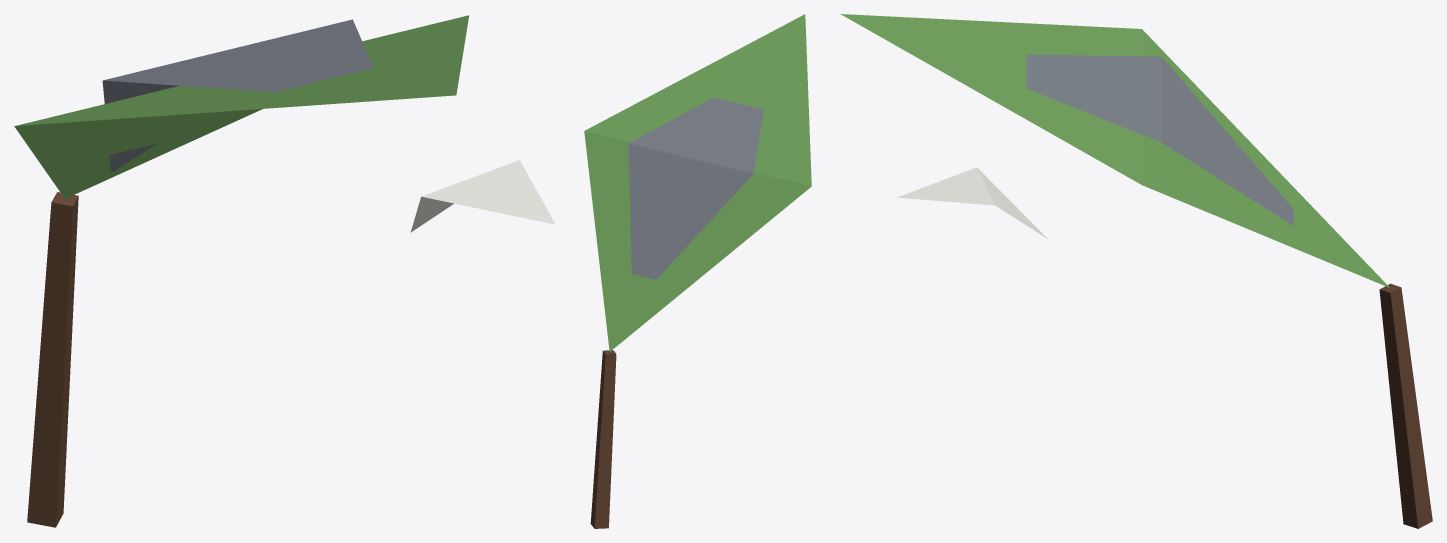
The model's file is deco_frost_leaf.obj.
3 renders of one model, left to right at view 1: azimuth 30°, elevation 25°; view 2: azimuth 150°, elevation 25°; view 3: azimuth 270°, elevation 25°, orthographic. The views are drawn at different scales.
Visible parts, largest first — view 1: deco_frost_leaf; view 2: deco_frost_leaf; view 3: deco_frost_leaf.
Boxes of the visible parts, x1=… form: deco_frost_leaf: x1=14, y1=15, x2=555, y2=527; deco_frost_leaf: x1=584, y1=14, x2=811, y2=528; deco_frost_leaf: x1=840, y1=14, x2=1432, y2=528.
Bounding box in the file's own units: 0.02 × 0.0305 × 0.0321.
Materials: 1 (1 with a texture image).
